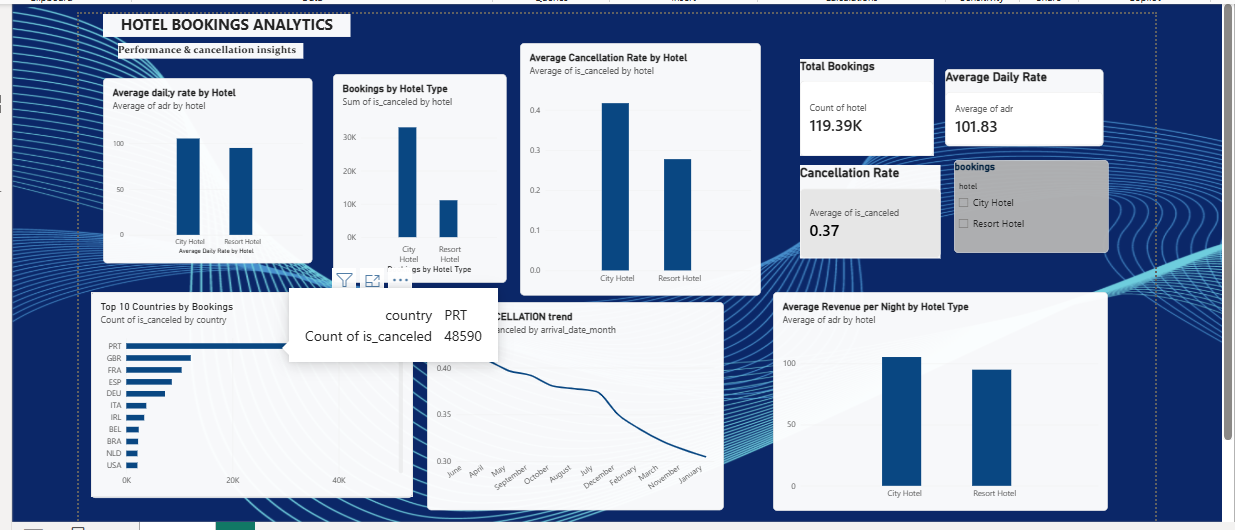

This screenshot's page, from the dashboard's own definition file:
{"tool":"powerbi","page":{"name":"Page 1","canvas":[1920,1080],"ordinal":0},"visuals":[{"type":"clusteredColumnChart","title":"Average dail;y rate by Hotel","fields":{"Category":["hotel_bookings.hotel"],"Y":["Avg(hotel_bookings.adr)"]},"box":[42.2,114.4,374.4,331.1],"z":0},{"type":"clusteredColumnChart","title":"Bookings by Hotel Type","fields":{"Category":["hotel_bookings.hotel"],"Y":["Sum(hotel_bookings.is_canceled)"]},"box":[454.4,106.7,310,373.3],"z":1000},{"type":"clusteredColumnChart","title":"Average Cancellation Rate by Hotel","fields":{"Category":["hotel_bookings.hotel"],"Y":["Avg(hotel_bookings.is_canceled)"]},"box":[787.8,52.2,430,451.1],"z":2000},{"type":"clusteredBarChart","title":"Top 10 Countries by Bookings","fields":{"Category":["hotel_bookings.country"],"Y":["CountNonNull(hotel_bookings.is_canceled)"]},"box":[22.2,495.6,574.4,367.8],"z":3000},{"type":"lineChart","title":"Monthly CANCELLATION trend ","fields":{"Category":["hotel_bookings.arrival_date_month"],"Y":["Avg(hotel_bookings.is_canceled)"]},"box":[621.1,514.4,530,372.2],"z":4000},{"type":"clusteredColumnChart","title":"Average Revenue per Night by Hotel Type","fields":{"Category":["hotel_bookings.hotel"],"Y":["Avg(hotel_bookings.adr)"]},"box":[1240,495.6,597.8,391.1],"z":5000},{"type":"cardVisual","title":"Total Bookings","fields":{"Data":["CountNonNull(hotel_bookings (2).hotel)"]},"box":[1287.8,80,238.9,173.3],"z":6000},{"type":"cardVisual","title":"Cancellation Rate","fields":{"Data":["Avg(hotel_bookings (2).is_canceled)"]},"box":[1287.8,270,251.1,166.7],"z":7000},{"type":"cardVisual","title":"Average Daily Rate","fields":{"Data":["Avg(hotel_bookings.adr)"]},"box":[1546.7,97.8,283.3,137.8],"z":8000},{"type":"textbox","box":[70,52.2,331.1,27.8],"z":10000},{"type":"textbox","box":[42.2,0,442.2,41.1],"z":11000},{"type":"slicer","title":"bookings","fields":{"Values":["hotel_bookings (2).hotel"]},"box":[1562.2,261.1,275.6,165.6],"z":11001}]}

Visuals, with their boxes on the page's 1920x1080 design canvas (x1, y1, x2, y2). These are canvas units, not pixel positions in the 1235x530 screenshot, which may show the page scaled, cropped or inside an application window:
"Average dail;y rate by Hotel" clusteredColumnChart: l=42, t=114, r=417, b=446
"Bookings by Hotel Type" clusteredColumnChart: l=454, t=107, r=764, b=480
"Average Cancellation Rate by Hotel" clusteredColumnChart: l=788, t=52, r=1218, b=503
"Top 10 Countries by Bookings" clusteredBarChart: l=22, t=496, r=597, b=863
"Monthly CANCELLATION trend " lineChart: l=621, t=514, r=1151, b=887
"Average Revenue per Night by Hotel Type" clusteredColumnChart: l=1240, t=496, r=1838, b=887
"Total Bookings" cardVisual: l=1288, t=80, r=1527, b=253
"Cancellation Rate" cardVisual: l=1288, t=270, r=1539, b=437
"Average Daily Rate" cardVisual: l=1547, t=98, r=1830, b=236
textbox: l=70, t=52, r=401, b=80
textbox: l=42, t=0, r=484, b=41
"bookings" slicer: l=1562, t=261, r=1838, b=427
